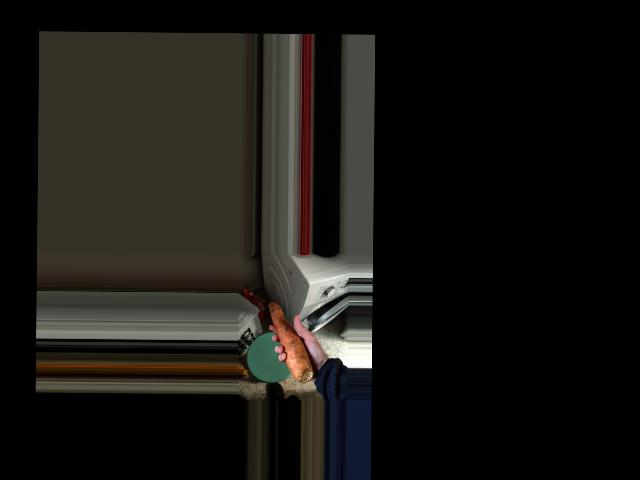sweet_potato: (263, 295, 316, 384)
